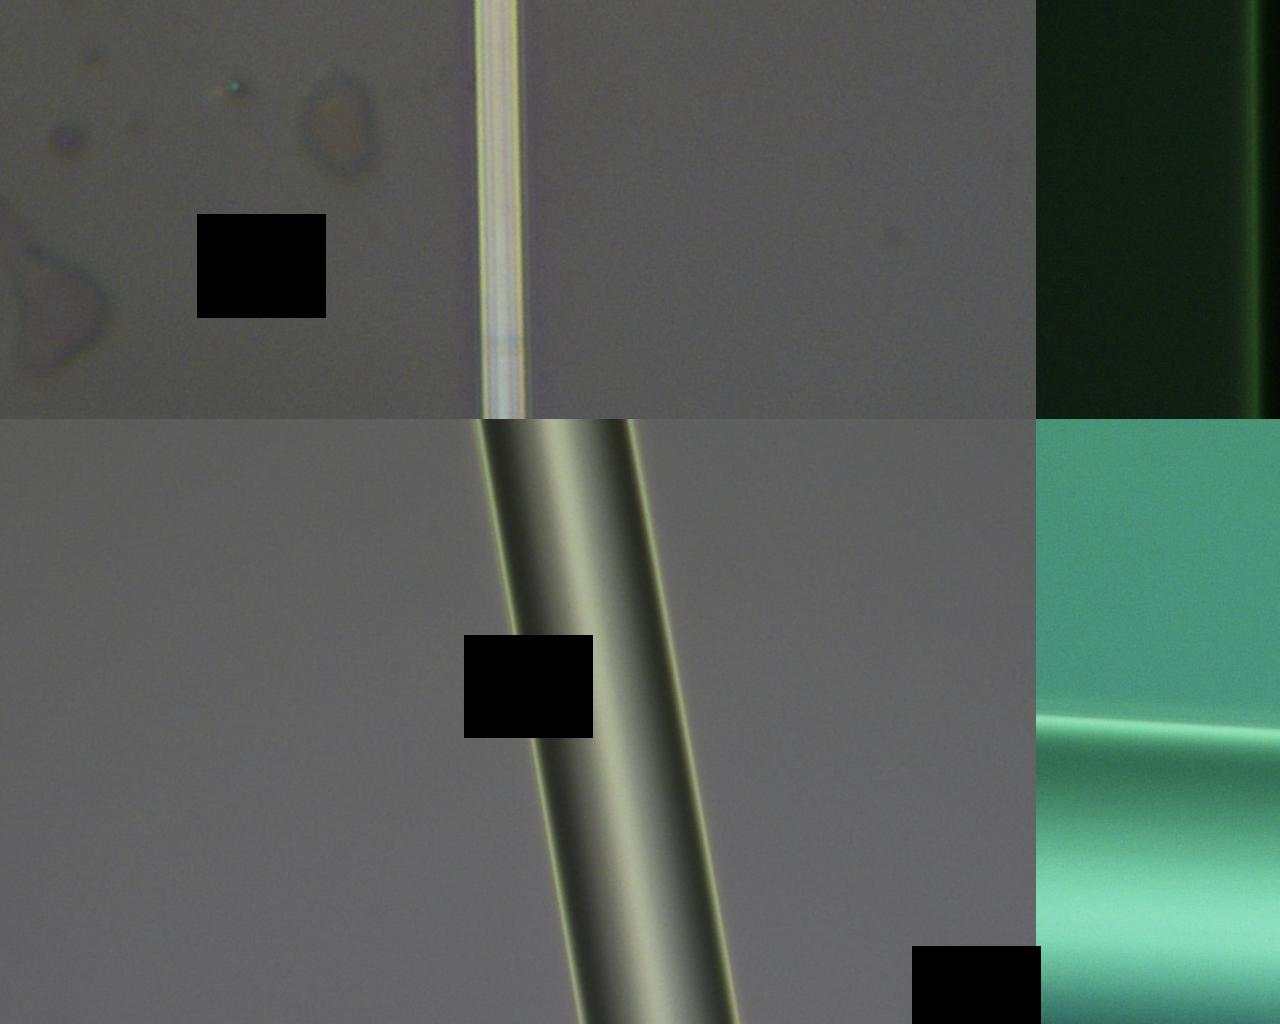fiber: (127, 187, 1151, 782)
